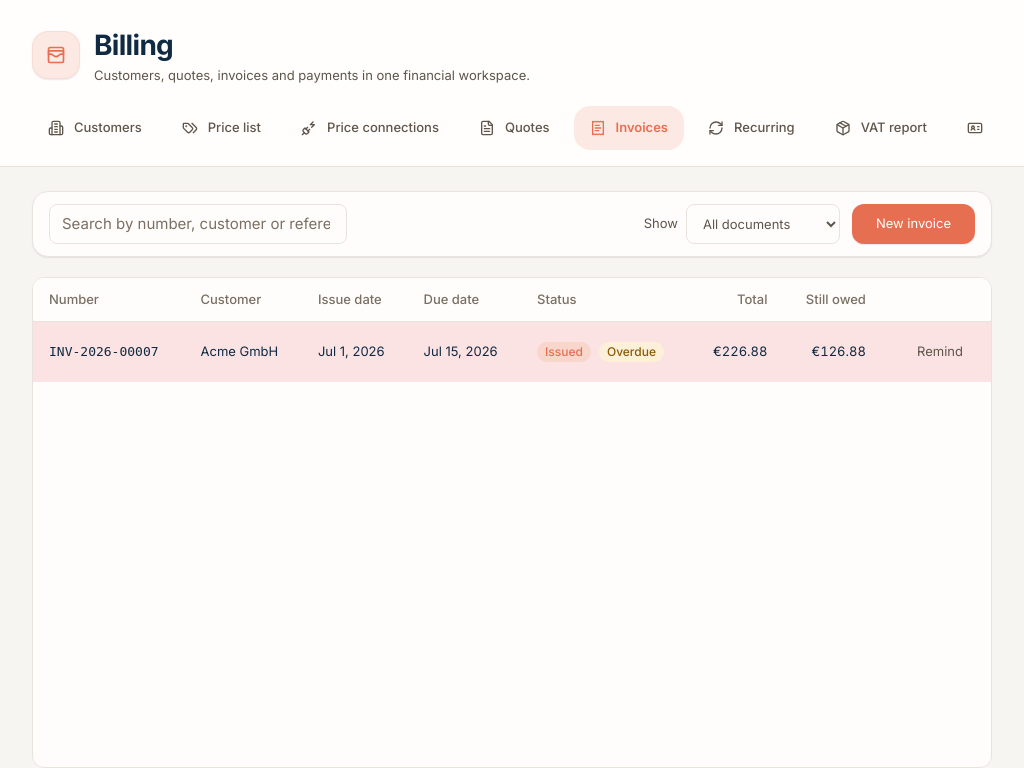
Test: chasing a late invoice from the list › a refusal is shown in the server's words, and claims no draft
This screenshot has width=1024, height=768.
Expected: the text "INV-2026-00007" is shown, [49,344,159,359]
Click the button "Remind" at [940, 352], box [905,334,975,370]
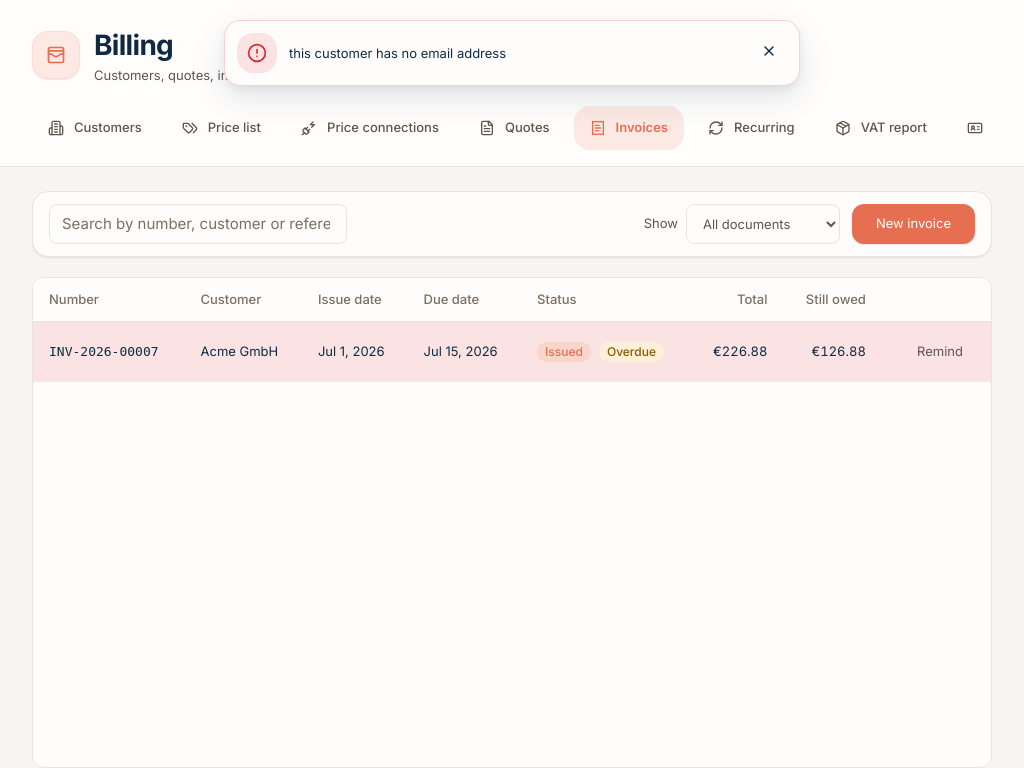
Result: the text "this customer has no email address" is shown at [289,45,506,61]
